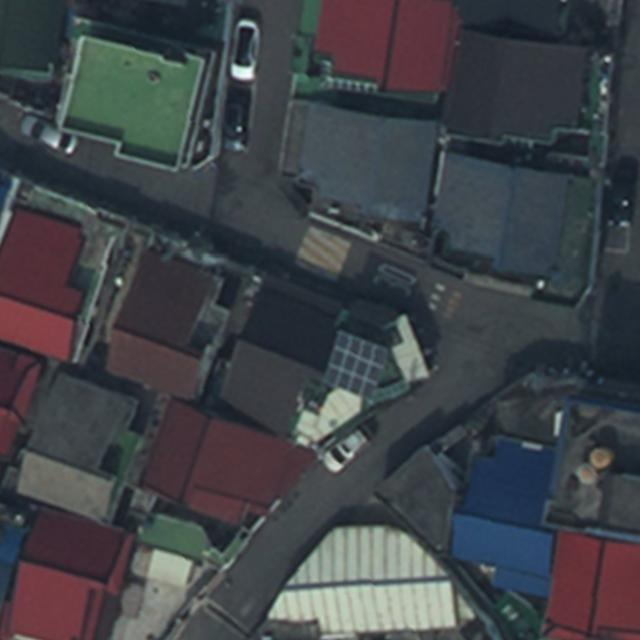panel: (322, 328, 389, 400)
